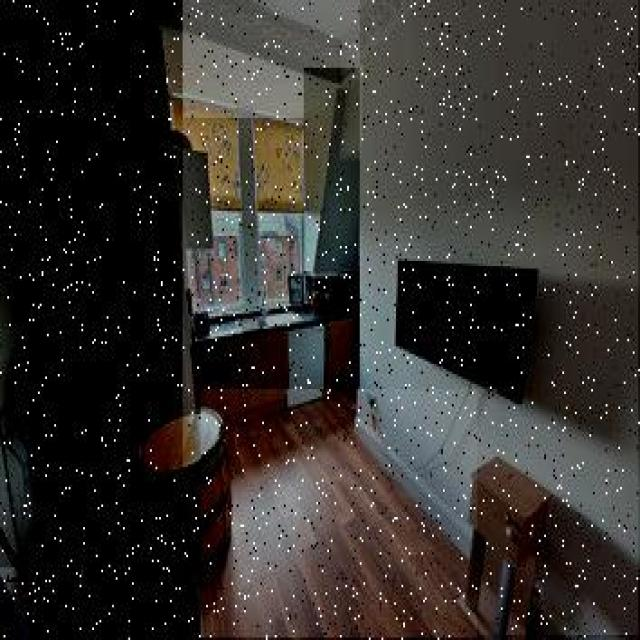Wall: (361, 1, 638, 635), (0, 1, 183, 567), (202, 390, 477, 637), (104, 0, 423, 83), (161, 27, 340, 118), (305, 71, 360, 274), (253, 1, 371, 38)
